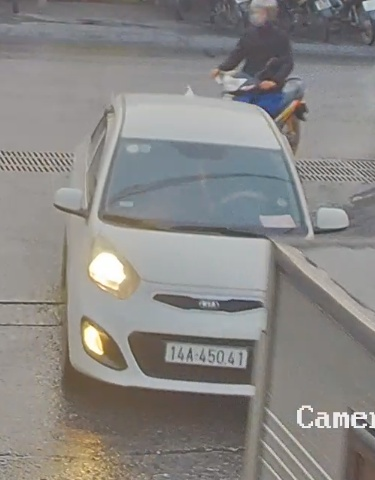vehicle plate: (161, 337, 252, 375)
